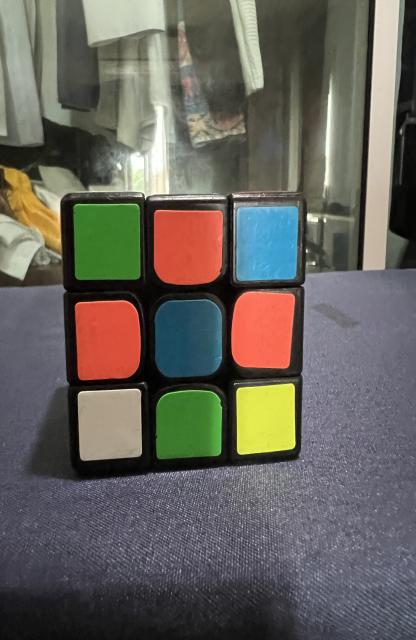Blue: (155, 299, 222, 378), (236, 206, 298, 281)
Green: (74, 204, 141, 280), (156, 390, 222, 460)
Orange: (75, 300, 141, 380), (154, 210, 223, 285), (232, 291, 295, 369)
White: (77, 389, 142, 461)
Yellow: (236, 384, 296, 455)
